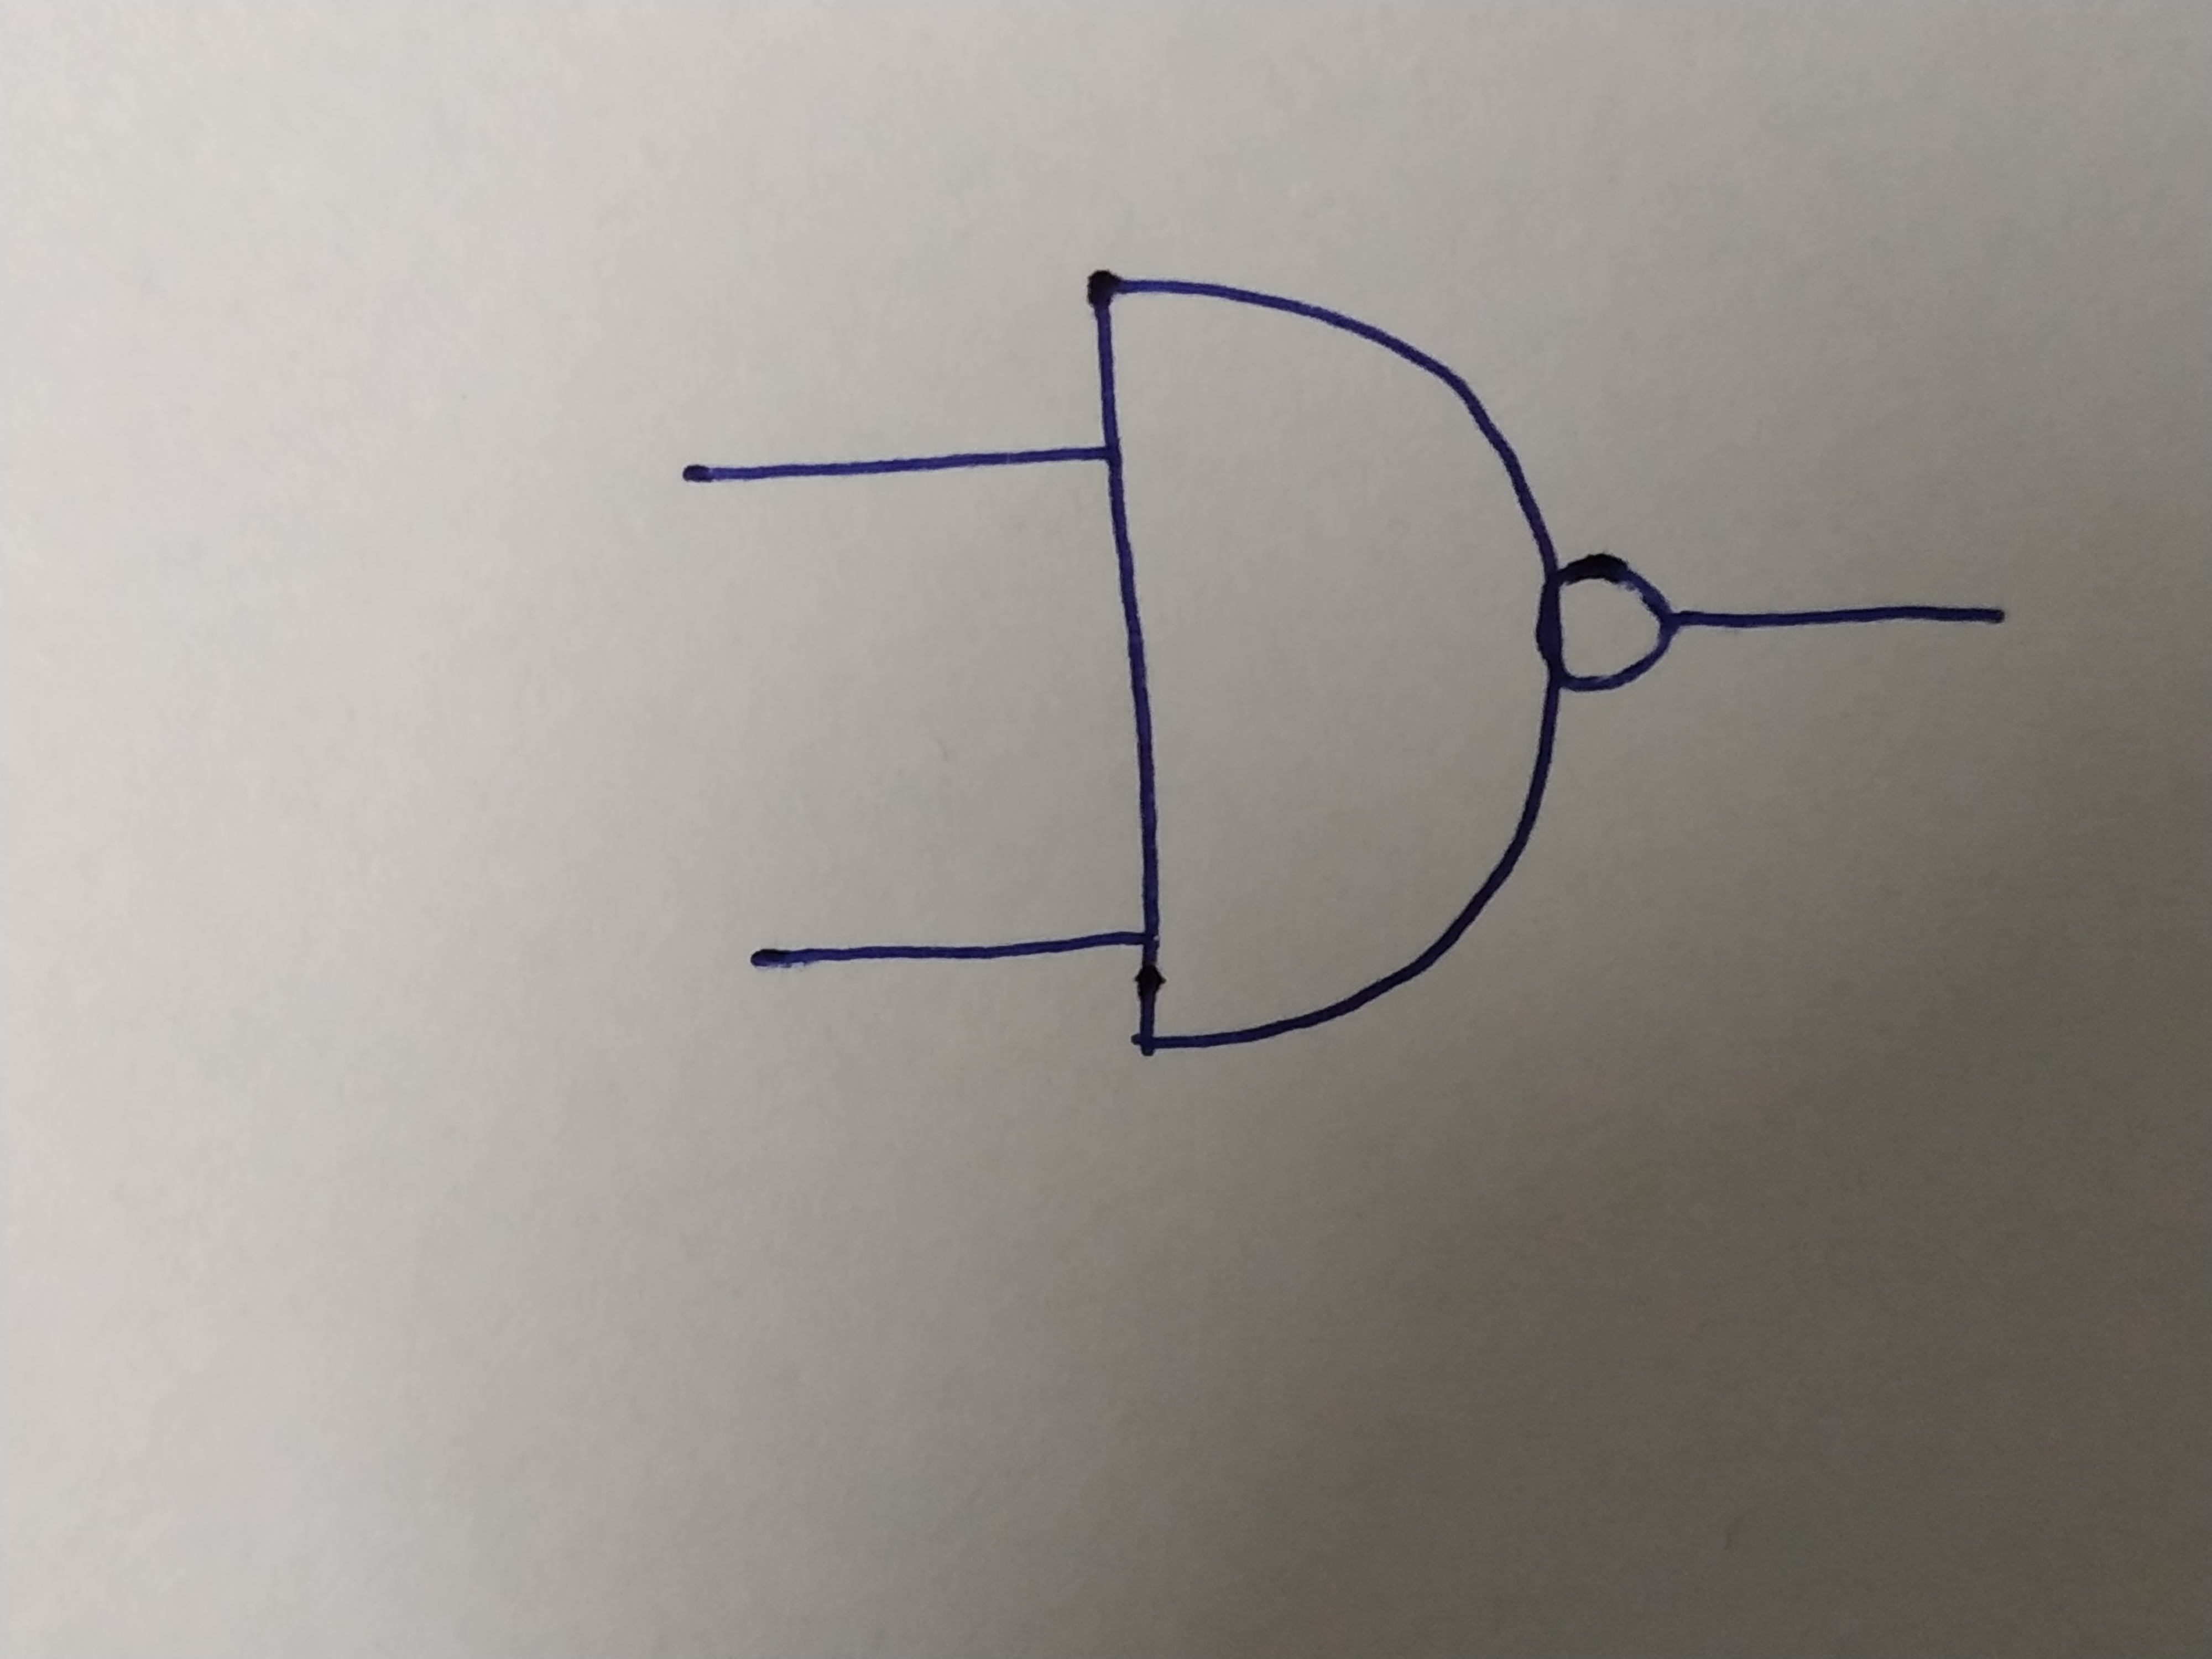and: (1080, 267, 1543, 1039)
not: (1555, 554, 1663, 687)
